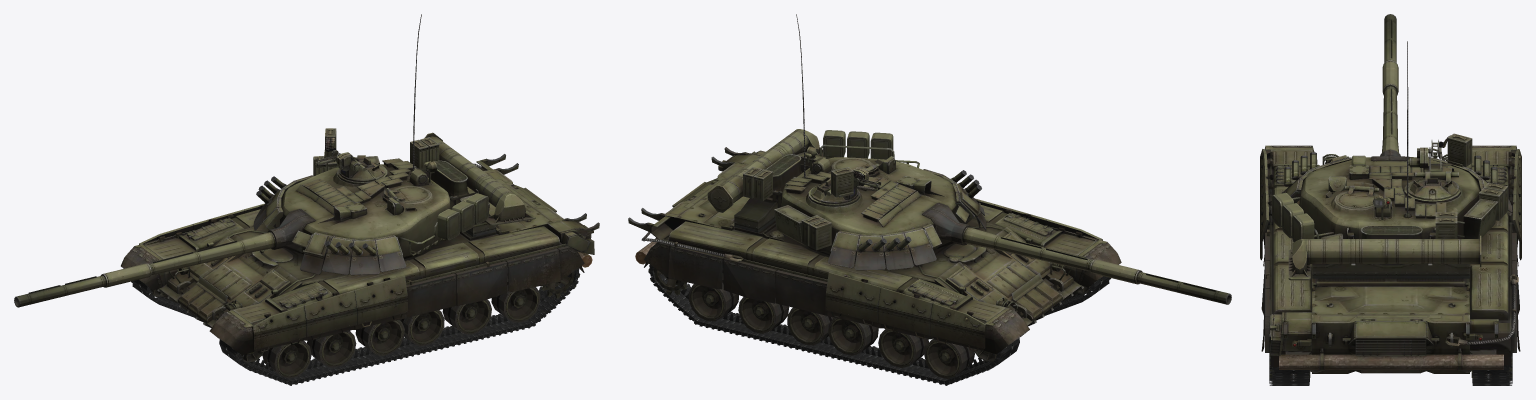
The picture shows the model from 3 angles, left to right: view 1: azimuth 30°, elevation 25°; view 2: azimuth 150°, elevation 25°; view 3: azimuth 270°, elevation 25°; orthographic projection. The views are drawn at different scales.
Parts seen in each view (by area): view 1: Object_2, Object_3, turret_Object_2, Object_4, turret_Object_3, barrel_Object_2; view 2: Object_2, Object_3, turret_Object_2, Object_4, turret_Object_3, barrel_Object_2; view 3: Object_2, turret_Object_2, Object_3, turret_Object_3, barrel_Object_2, Object_4.
Part boxes in pixels (x1=…): Object_2: x1=145, y1=132, x2=599, y2=378; Object_3: x1=121, y1=203, x2=584, y2=355; turret_Object_2: x1=263, y1=14, x2=496, y2=266; Object_4: x1=131, y1=267, x2=580, y2=385; turret_Object_3: x1=263, y1=158, x2=416, y2=265; barrel_Object_2: x1=14, y1=232, x2=275, y2=307; Object_2: x1=628, y1=129, x2=1096, y2=378; Object_3: x1=644, y1=197, x2=1121, y2=354; turret_Object_2: x1=734, y1=14, x2=974, y2=266; Object_4: x1=648, y1=264, x2=1111, y2=385; turret_Object_3: x1=784, y1=169, x2=980, y2=261; barrel_Object_2: x1=962, y1=227, x2=1231, y2=304; Object_2: x1=1266, y1=149, x2=1518, y2=377; turret_Object_2: x1=1284, y1=41, x2=1508, y2=281; Object_3: x1=1260, y1=145, x2=1521, y2=367; turret_Object_3: x1=1286, y1=155, x2=1487, y2=218; barrel_Object_2: x1=1382, y1=14, x2=1398, y2=152; Object_4: x1=1269, y1=353, x2=1512, y2=385.
Bounding box in the file's own units: 39.85 × 19.97 × 14.96.
3 materials, 3 textured.
